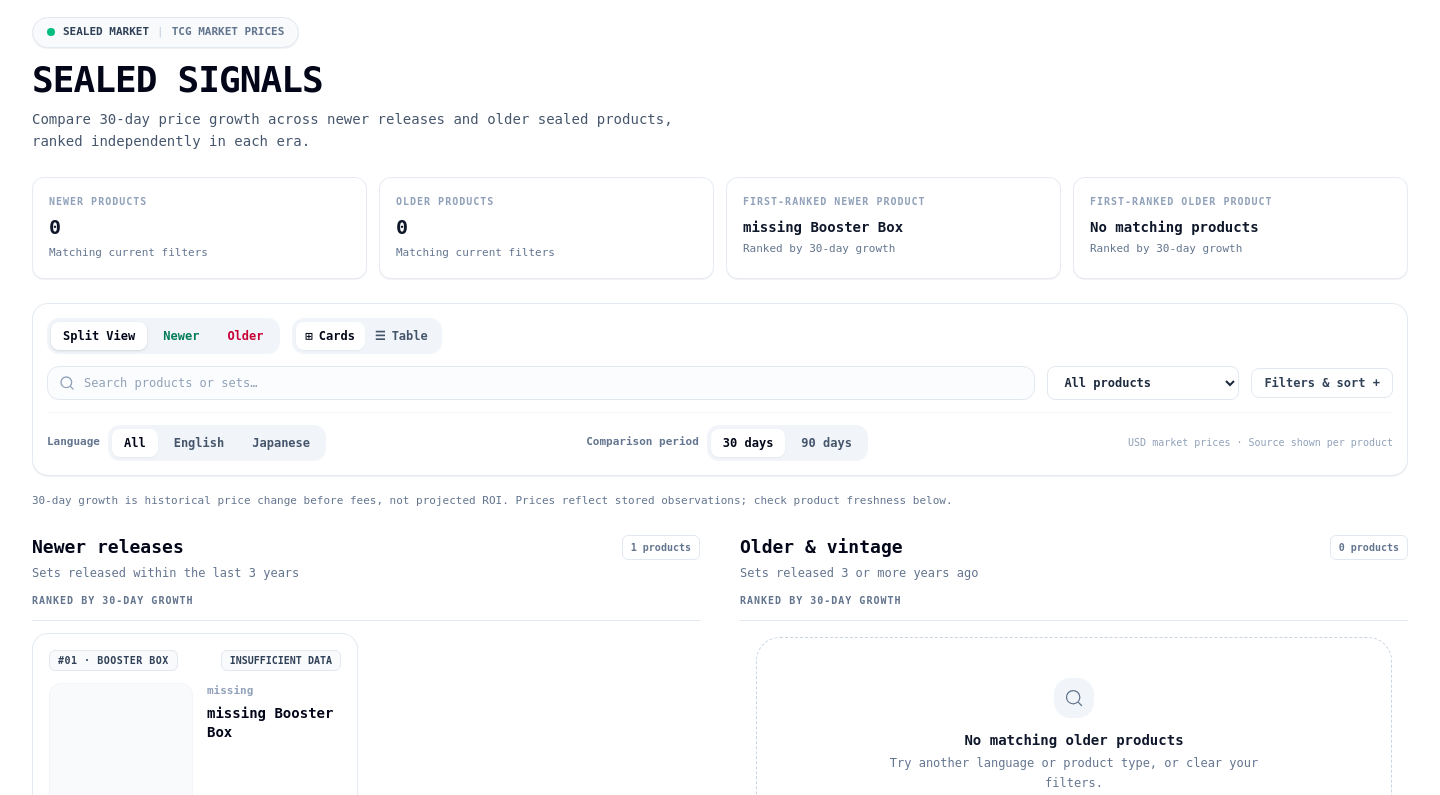
Test: shows unavailable scores in cards, table rows and expanded details
expect the text "INSUFFICIENT DATA" is shown: met, box [221,650,341,671]
Click the button "☰ Table": click(401, 336) [365,322,438,350]
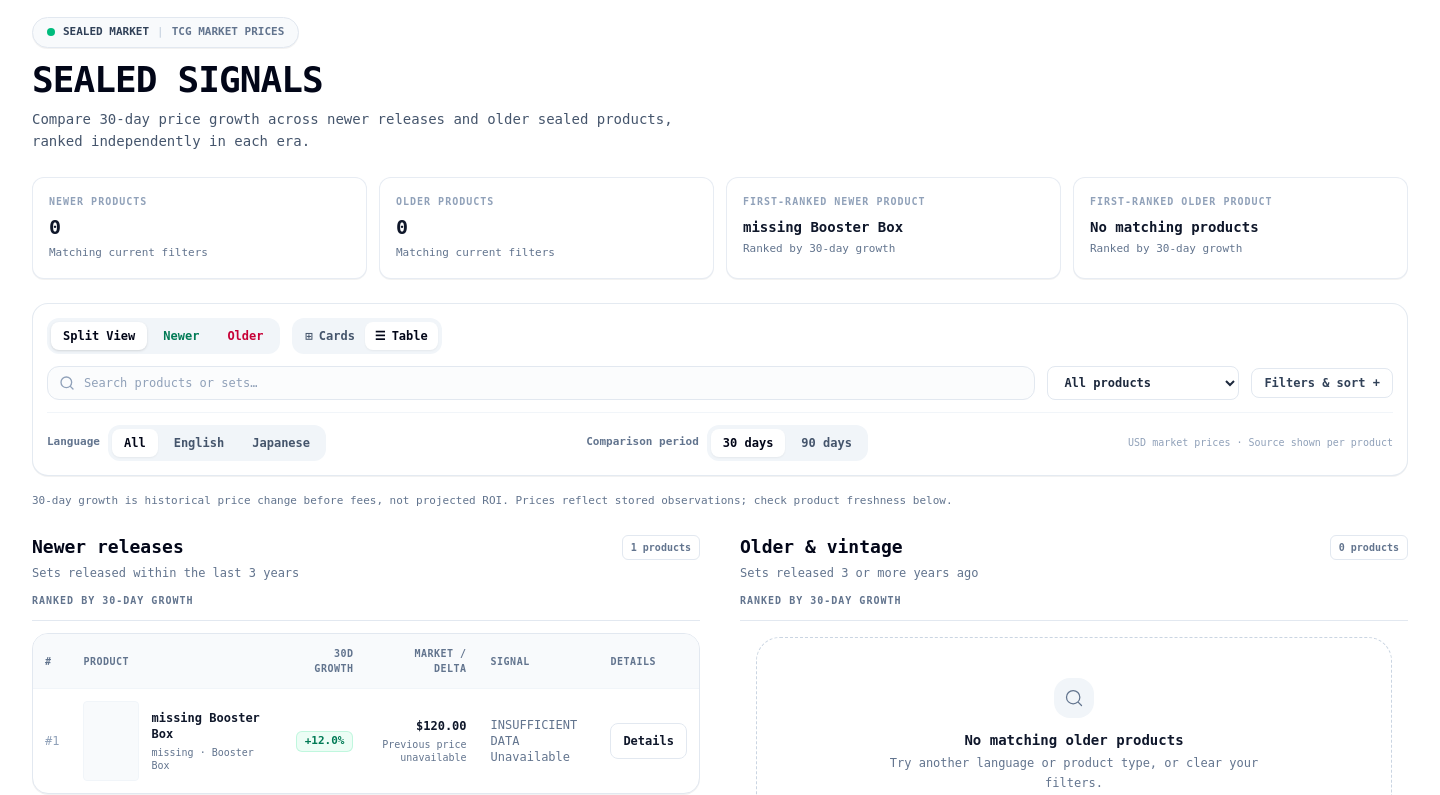
expect the text "Unavailable" is shown: met, box [491,750,570,764]
Click the button with aria-label "Details for missing Booster Box": click(649, 741) [610,723,687,759]
(page scrolled)
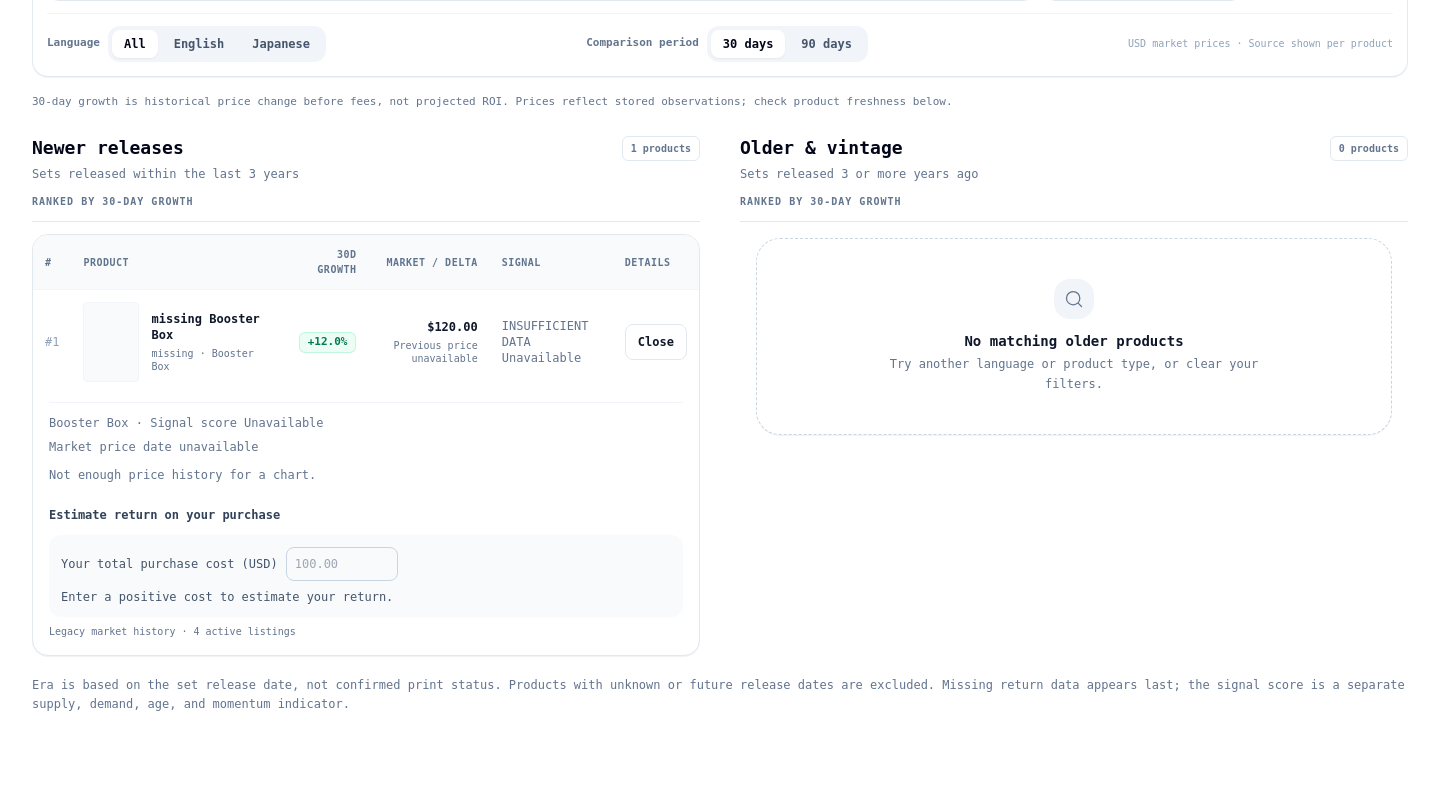
expect the text "Booster Box · Signal score Unavailable" is shown: met, box [49,416,324,430]
